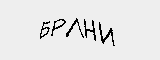Б: (37, 16, 50, 40)
И: (97, 22, 115, 46)
Л: (64, 15, 84, 41)
Н: (82, 17, 95, 42)
Р: (49, 16, 64, 39)
